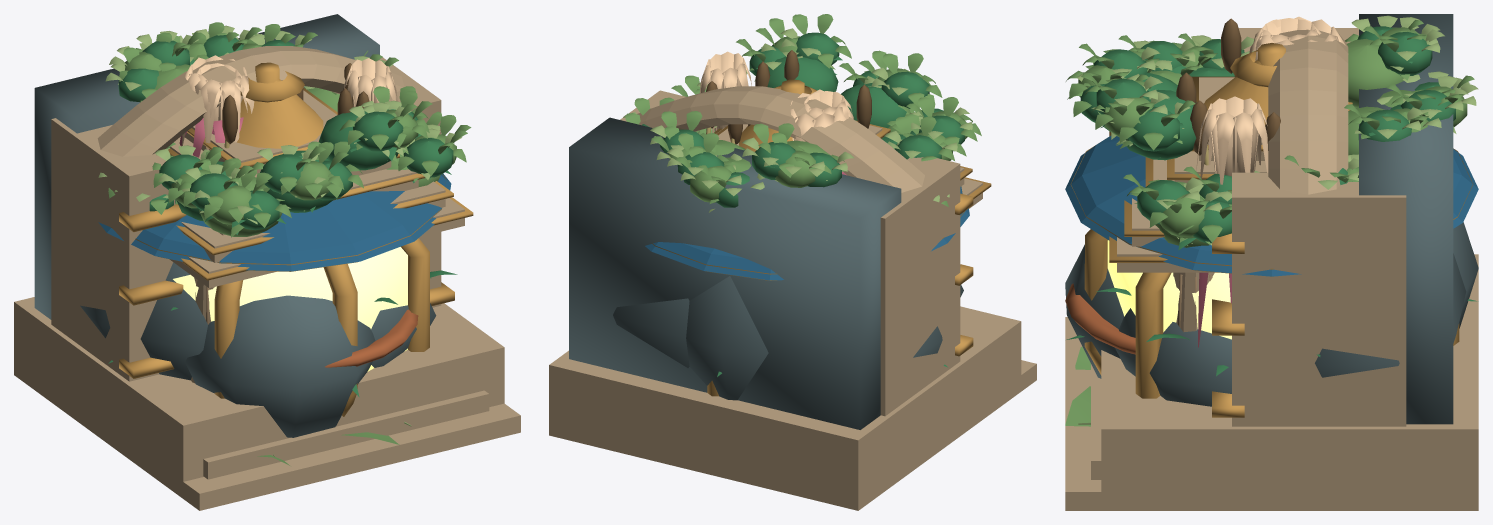
The model's file is nature.glb.
3 views of the same model, side by side, from view 1: azimuth 30°, elevation 25°; view 2: azimuth 150°, elevation 25°; view 3: azimuth 270°, elevation 25° (orthographic). The views are drawn at different scales.
Visible parts, largest first — view 1: diya_niche, swamp_shrine, mangrove_roots, transit_lantern, rock_island, lotus_cluster, reed_cluster; view 2: diya_niche, mangrove_roots, rock_island, swamp_shrine, transit_lantern, lotus_cluster, reed_cluster; view 3: diya_niche, mangrove_roots, transit_lantern, swamp_shrine, rock_island, lotus_cluster, reed_cluster.
Part boxes in pixels (<box>): diya_niche: <box>14,14,504,498</box>; swamp_shrine: <box>14,79,520,510</box>; mangrove_roots: <box>98,22,471,237</box>; transit_lantern: <box>98,62,451,416</box>; rock_island: <box>80,63,436,437</box>; lotus_cluster: <box>182,55,411,465</box>; reed_cluster: <box>108,63,457,397</box>; diya_niche: <box>549,86,1021,510</box>; mangrove_roots: <box>623,14,981,212</box>; rock_island: <box>613,91,963,400</box>; swamp_shrine: <box>549,120,1036,510</box>; transit_lantern: <box>645,79,969,396</box>; lotus_cluster: <box>698,51,853,141</box>; reed_cluster: <box>706,50,947,376</box>; diya_niche: <box>1065,14,1478,510</box>; mangrove_roots: <box>1066,15,1478,250</box>; transit_lantern: <box>1065,43,1478,398</box>; swamp_shrine: <box>1065,59,1478,510</box>; rock_island: <box>1065,18,1478,406</box>; lotus_cluster: <box>1065,16,1346,426</box>; reed_cluster: <box>1066,18,1478,376</box>.
Size of the model in its own units: 1 by 1 by 1.
